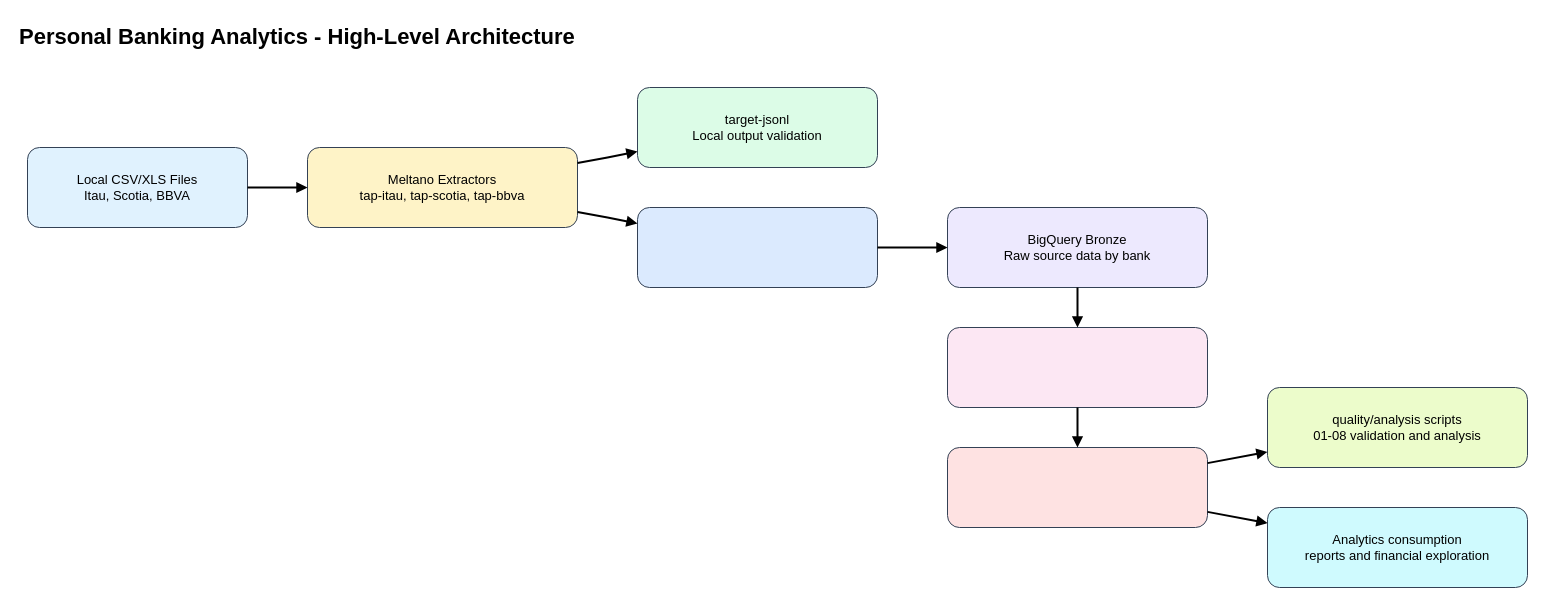
Image size: 1545x605. Some labels were removed from this diagram. Here are the shapes that lost their labels. From the top down, the box of each, then its label:
(636, 206, 878, 288): target-bigquery BigQuery bronze load
(946, 326, 1208, 408): dbt Silver Standardization and classification
(946, 446, 1208, 528): dbt Gold Facts and monthly aggregates
